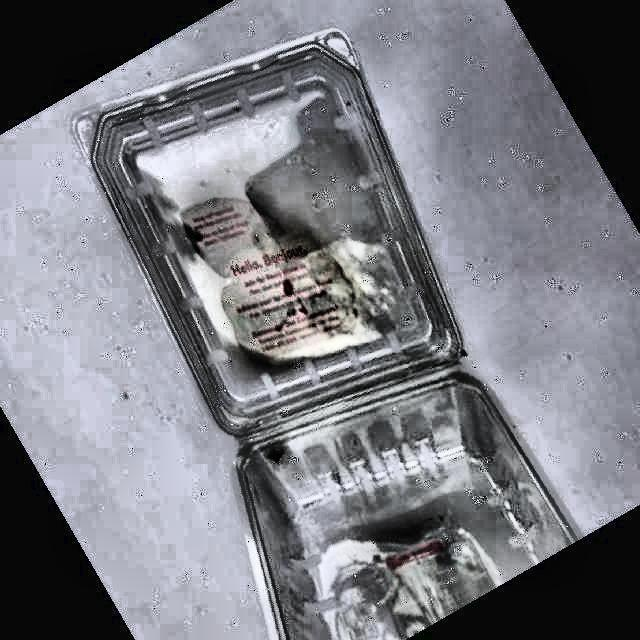plastic: (73, 30, 575, 639)
